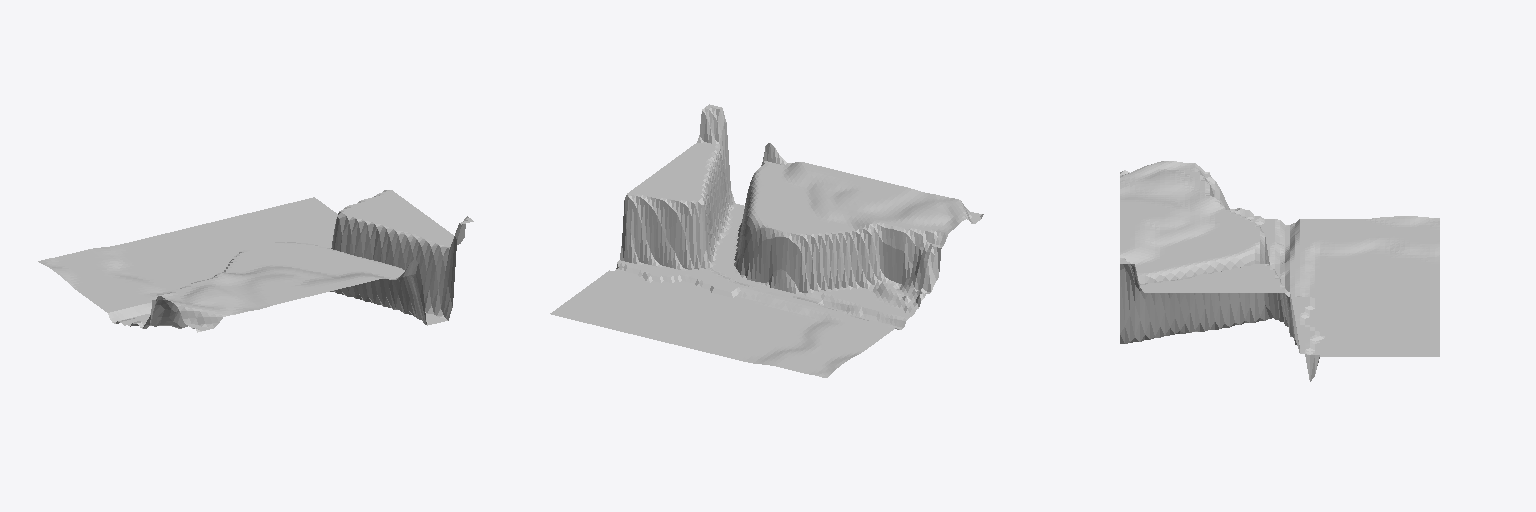
The model's file is SM_Terrain_Tuto1Chunk0.1.obj.
3 views of the same model, side by side, from view 1: azimuth 30°, elevation 25°; view 2: azimuth 150°, elevation 25°; view 3: azimuth 270°, elevation 25° (orthographic).
Bounding box in the file's own units: 100 × 40.93 × 100.